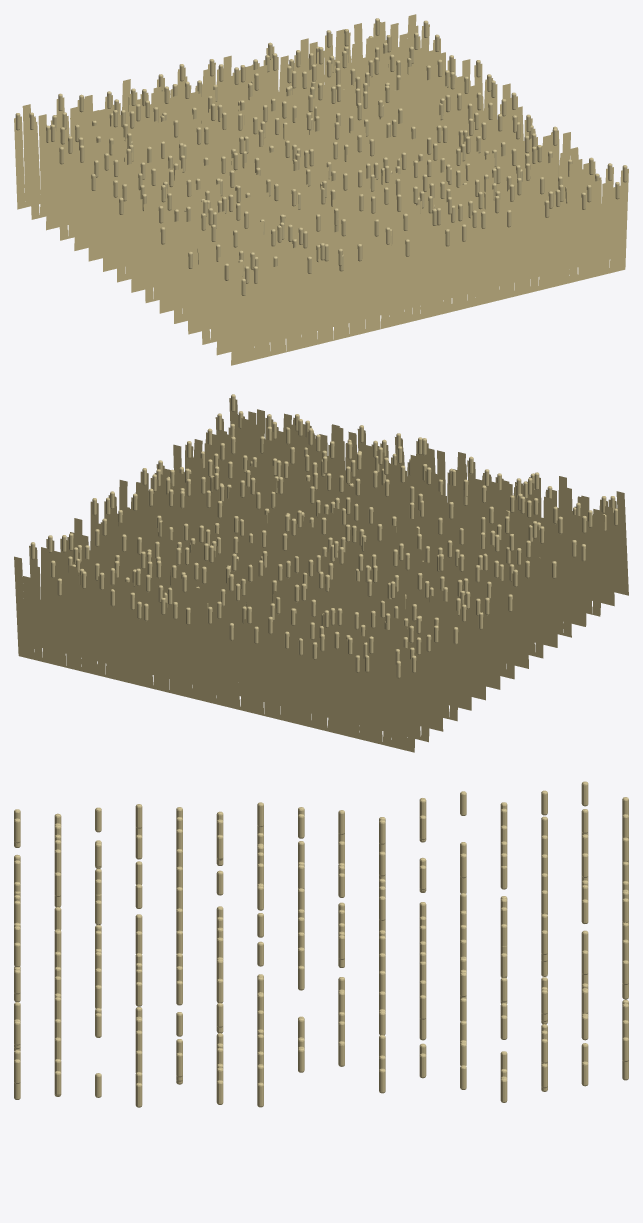
The model's file is WheatPatch.fbx.
3 views of the same model, one above another, from view 1: azimuth 30°, elevation 25°; view 2: azimuth 150°, elevation 25°; view 3: azimuth 270°, elevation 25° (orthographic). The views are drawn at different scales.
Parts seen in each view (by area): view 1: WheatPatch; view 2: WheatPatch; view 3: WheatPatch.
Part boxes in pixels (x1,y1,x2,y2): WheatPatch: (14,14,628,365); WheatPatch: (14,394,628,752); WheatPatch: (14,781,628,1107).
Size of the model in its own units: 4.1 by 1.04 by 3.79.
